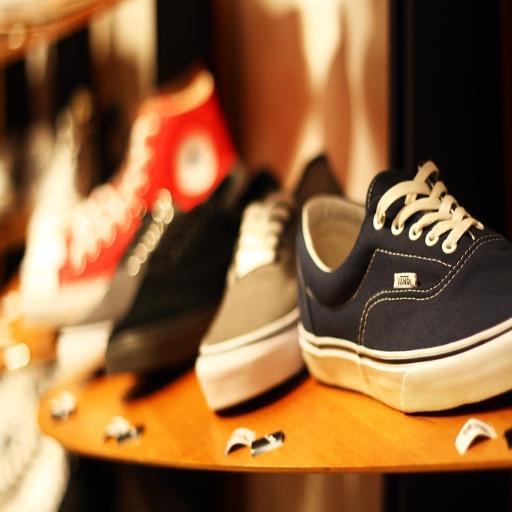shoe: (22, 69, 239, 326), (296, 162, 512, 412), (195, 156, 339, 410), (105, 170, 273, 374)
